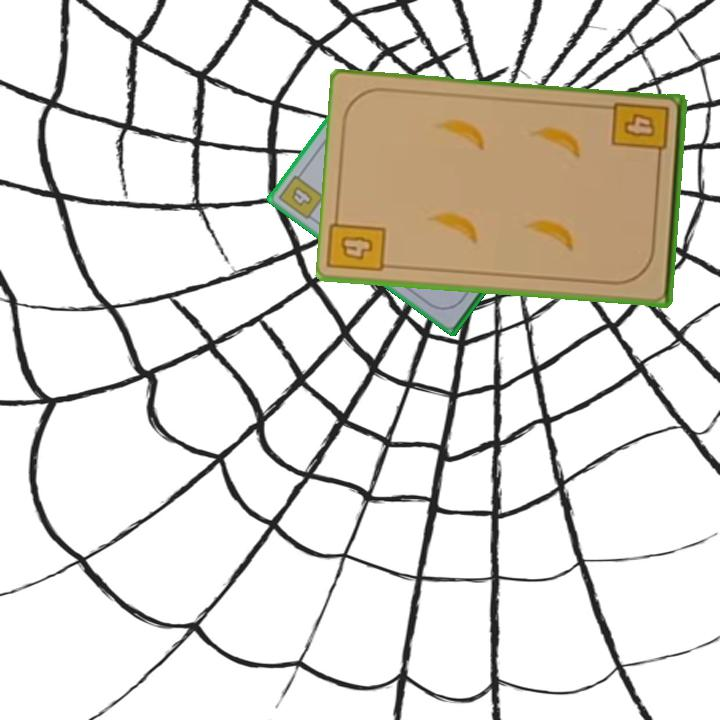4b: (609, 98, 672, 166), (275, 167, 326, 222), (336, 232, 376, 264)
